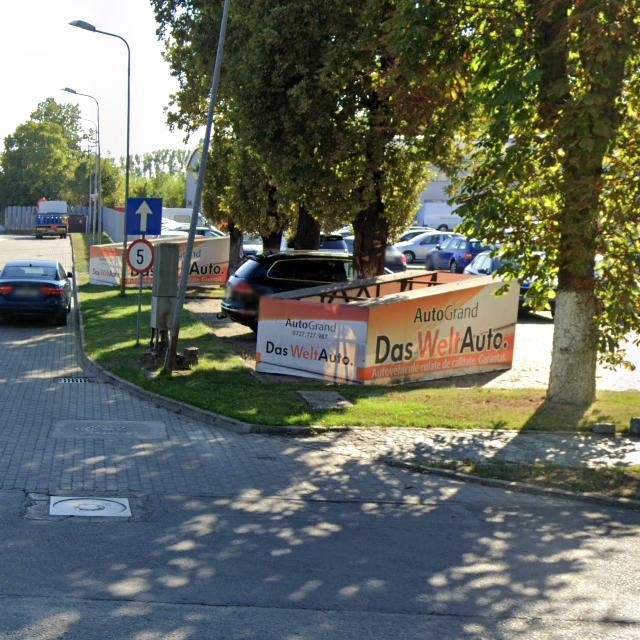forb_speed_over_5: (126, 238, 154, 272)
info_one_way_traffic: (126, 196, 162, 235)
